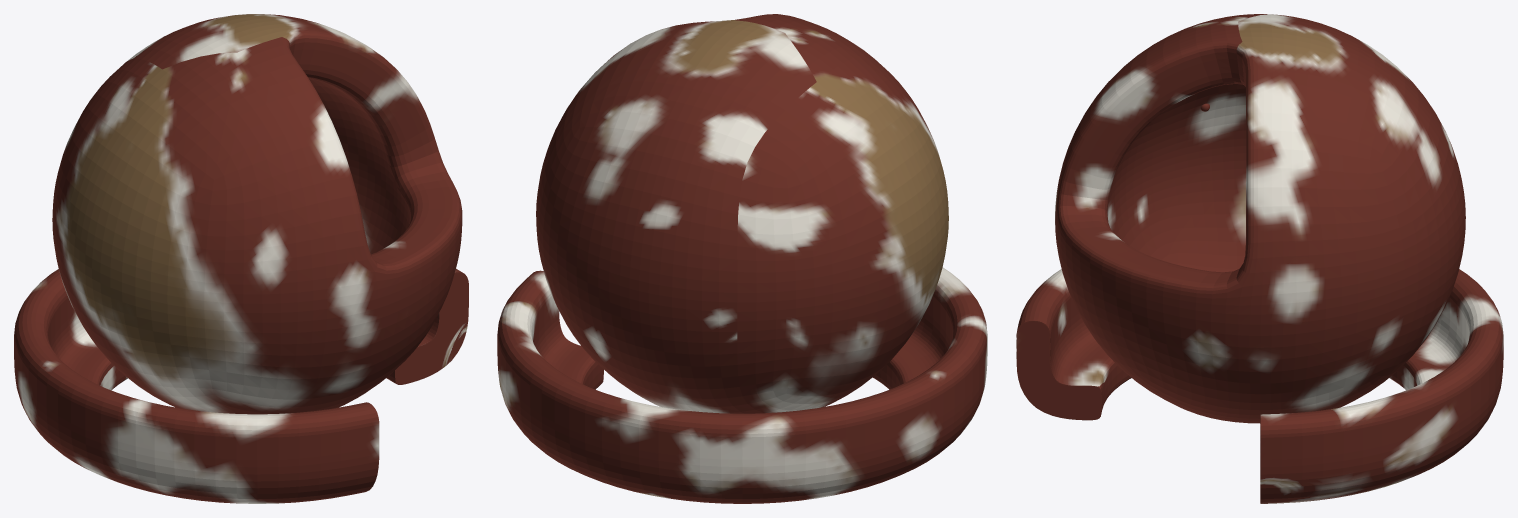
The model's file is openpbr_surface_full.obj.
The picture shows the model from 3 angles, left to right: view 1: azimuth 30°, elevation 25°; view 2: azimuth 150°, elevation 25°; view 3: azimuth 270°, elevation 25°; orthographic projection.
Visible parts, largest first — view 1: Group56925; view 2: Group56925; view 3: Group56925.
Part boxes in pixels (<box>): Group56925: <box>14,14,468,503</box>; Group56925: <box>497,14,987,503</box>; Group56925: <box>1016,14,1503,503</box>.
Bounding box in the file's own units: 8.91 × 7.82 × 8.91.
1 material, 1 textured.
